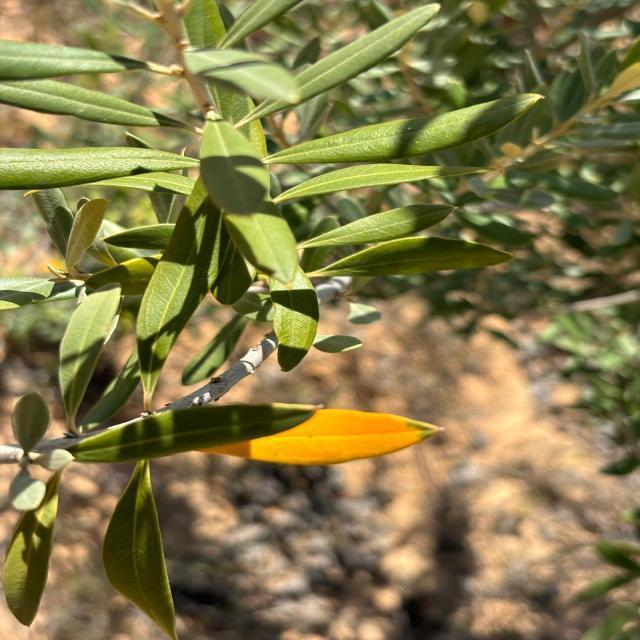OlivePeacockSpot: (198, 410, 444, 464)
